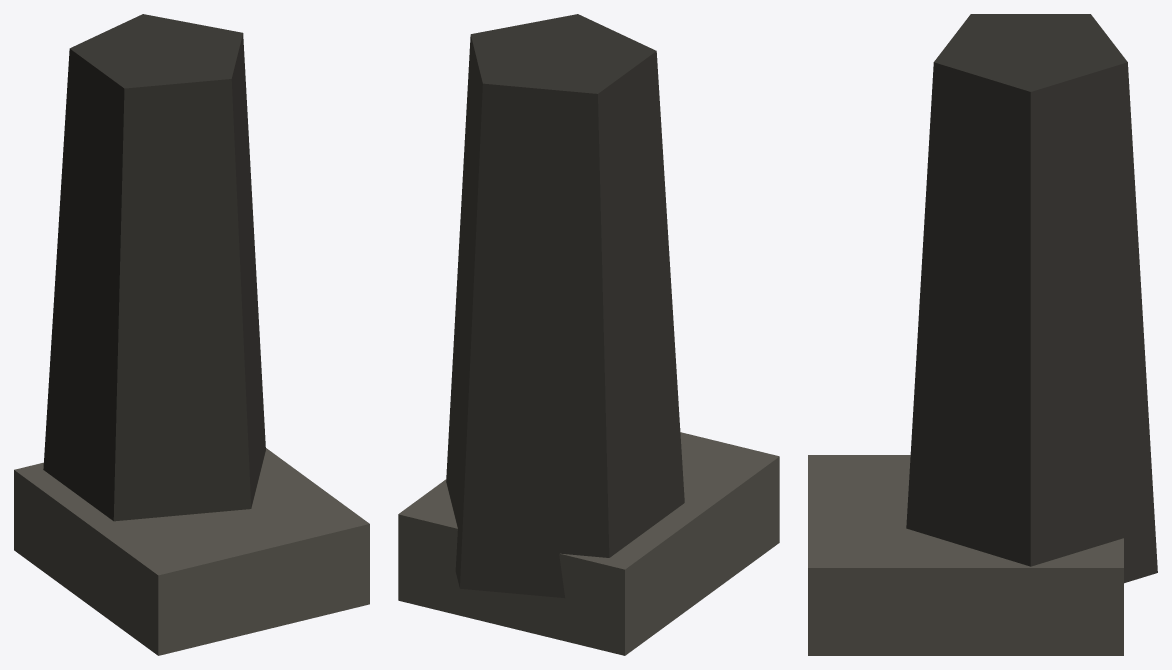
The model's file is dk_mob_crawler_leg.glb.
3 renders of one model, left to right at view 1: azimuth 30°, elevation 25°; view 2: azimuth 150°, elevation 25°; view 3: azimuth 270°, elevation 25°, orthographic. The views are drawn at different scales.
Visible parts, largest first — view 1: dk_mob_crawler_leg; view 2: dk_mob_crawler_leg; view 3: dk_mob_crawler_leg.
Boxes of the visible parts, <box> form: dk_mob_crawler_leg: <box>14,14,369,655</box>; dk_mob_crawler_leg: <box>398,14,779,655</box>; dk_mob_crawler_leg: <box>808,14,1157,655</box>.
Size of the model in its own units: 0.33 by 0.75 by 0.4319.
1 material, 1 textured.
